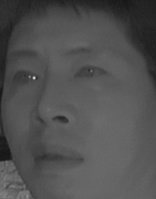eye: (71, 60, 108, 84), (7, 65, 41, 89)
mouth: (28, 138, 87, 177)
